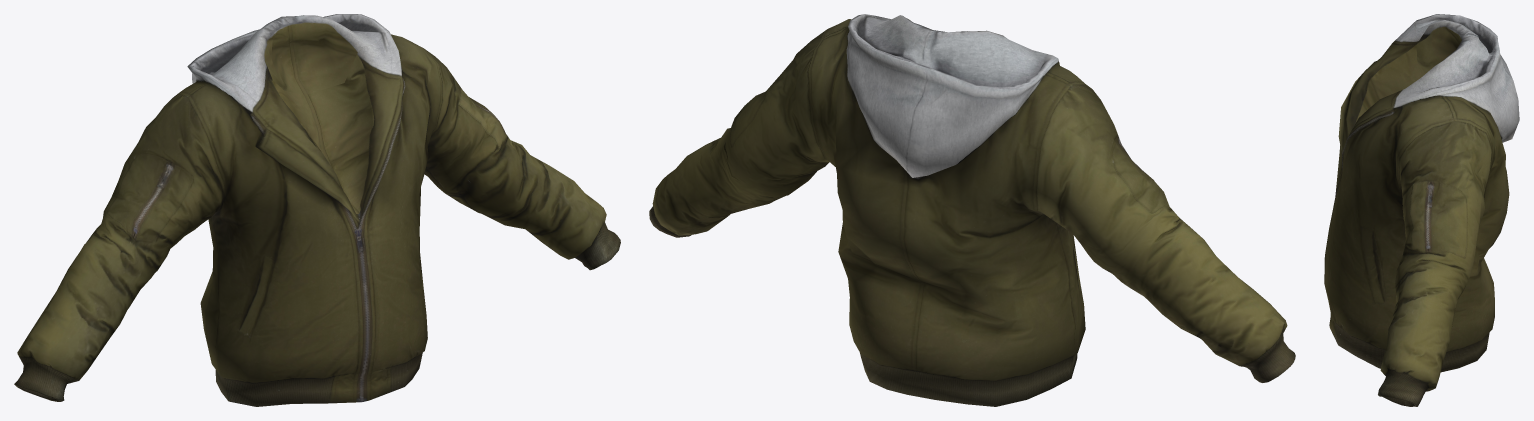
File: poly_jacket.glb
3 renders of one model, left to right at view 1: azimuth 30°, elevation 25°; view 2: azimuth 150°, elevation 25°; view 3: azimuth 270°, elevation 25°, orthographic. The views are drawn at different scales.
Visible parts, largest first — view 1: LOW___POLY___J001_Material #75_0; view 2: LOW___POLY___J001_Material #75_0; view 3: LOW___POLY___J001_Material #75_0.
Boxes of the visible parts, x1=… form: LOW___POLY___J001_Material #75_0: x1=14, y1=14, x2=620, y2=406; LOW___POLY___J001_Material #75_0: x1=649, y1=14, x2=1295, y2=406; LOW___POLY___J001_Material #75_0: x1=1324, y1=14, x2=1519, y2=406.
Size of the model in its own units: 1.05 by 0.5728 by 0.3336.
Materials: 1 (1 with a texture image).
